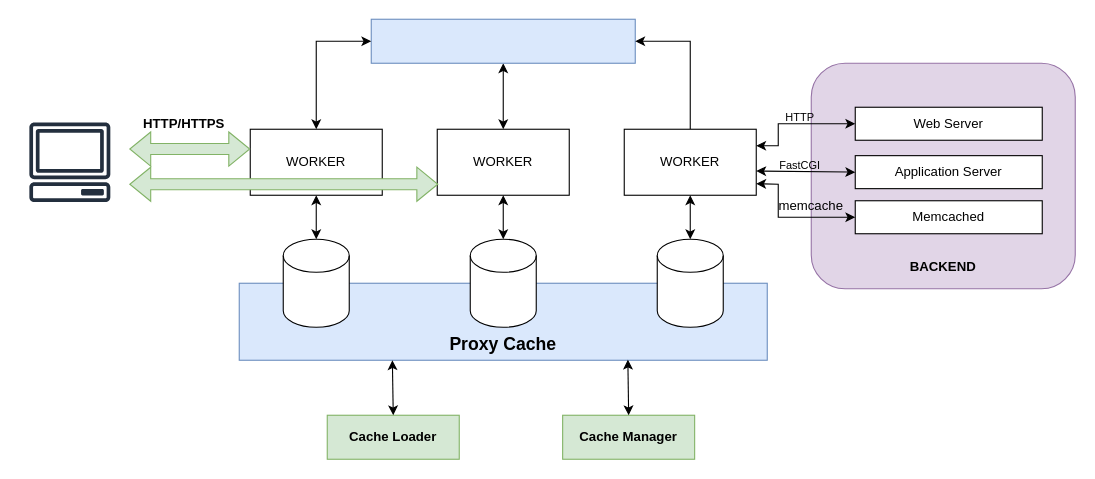
This 1095x479 diagram has some shape labels left out. The shapes that lost their labels are listed below. From the top down, each one's centre as x and y in pixels, then its label:
At (502,40): "Master".
At (69,162): "Client".
